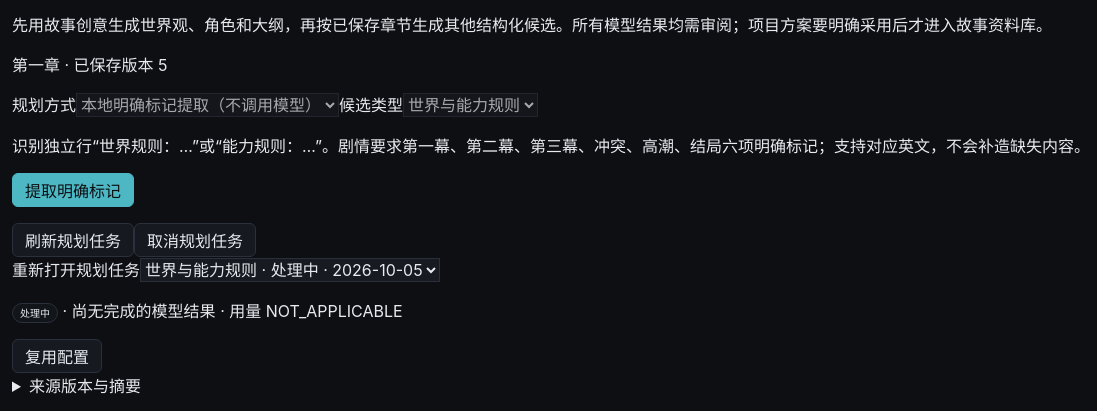
Test: structured planning review › cancels pending task and prevents active duplicate submissions
This screenshot has width=1097, height=411.
Click the button "取消规划任务".
click(195, 240)  # box [134,223,256,257]
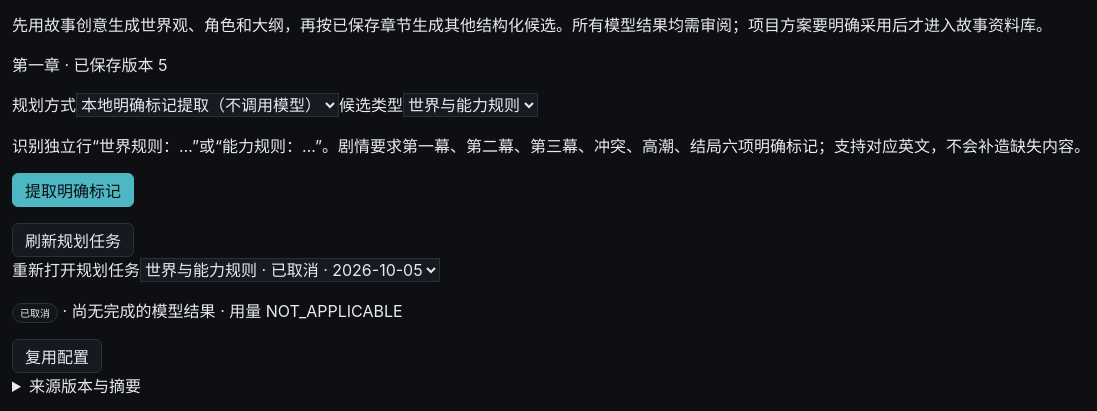
expect the text "已取消" is shown: met, box [12,302,58,322]
